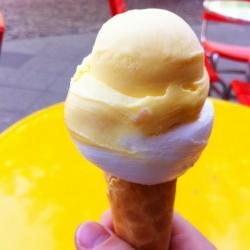icecream: (41, 25, 229, 190)
